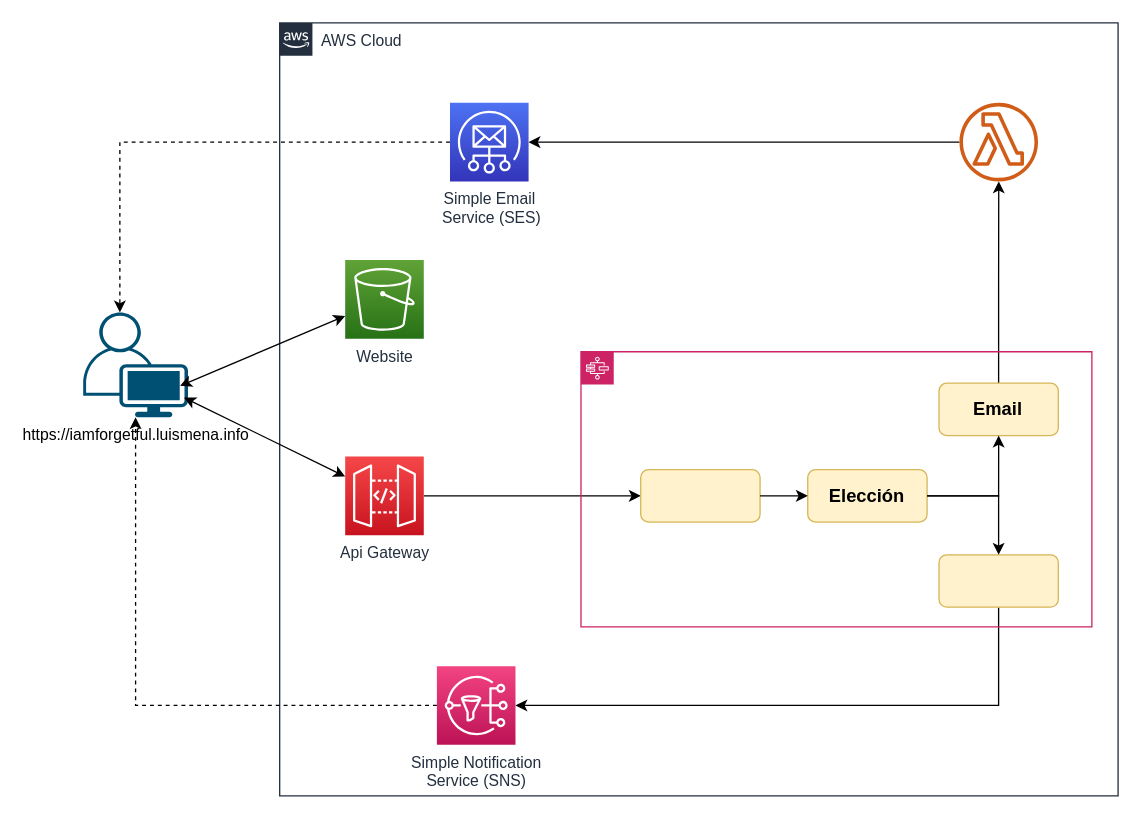
This 1141x819 diagram has some shape labels left out. The box of each missing label's shape, as (x1, y1, x2, y2) in pixels:
AWS Step Functions workflow: (580, 350, 1092, 627)
fn_email_remainder: (959, 102, 1037, 181)
SMS: (938, 553, 1058, 607)
Temporizador: (639, 468, 760, 522)
